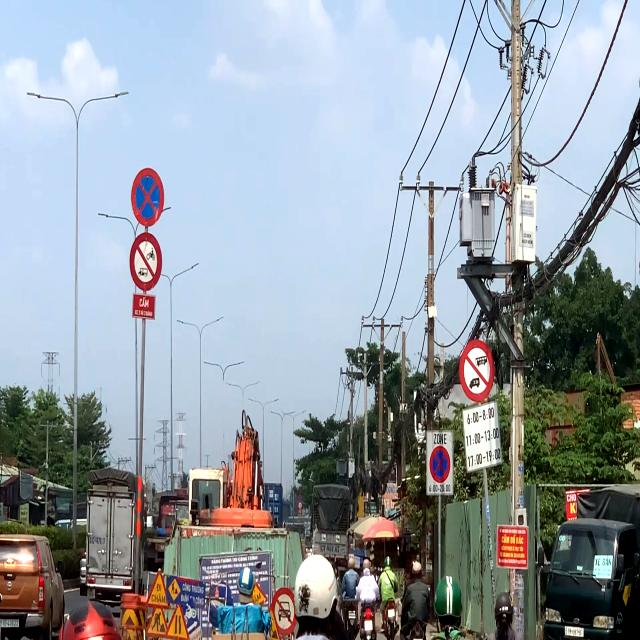P.103a: (270, 587, 298, 637)
P.130: (131, 167, 164, 227), (430, 446, 450, 483)
W.203c: (165, 601, 190, 640)
W.227: (146, 600, 170, 638)
W.245a: (145, 568, 171, 610)
